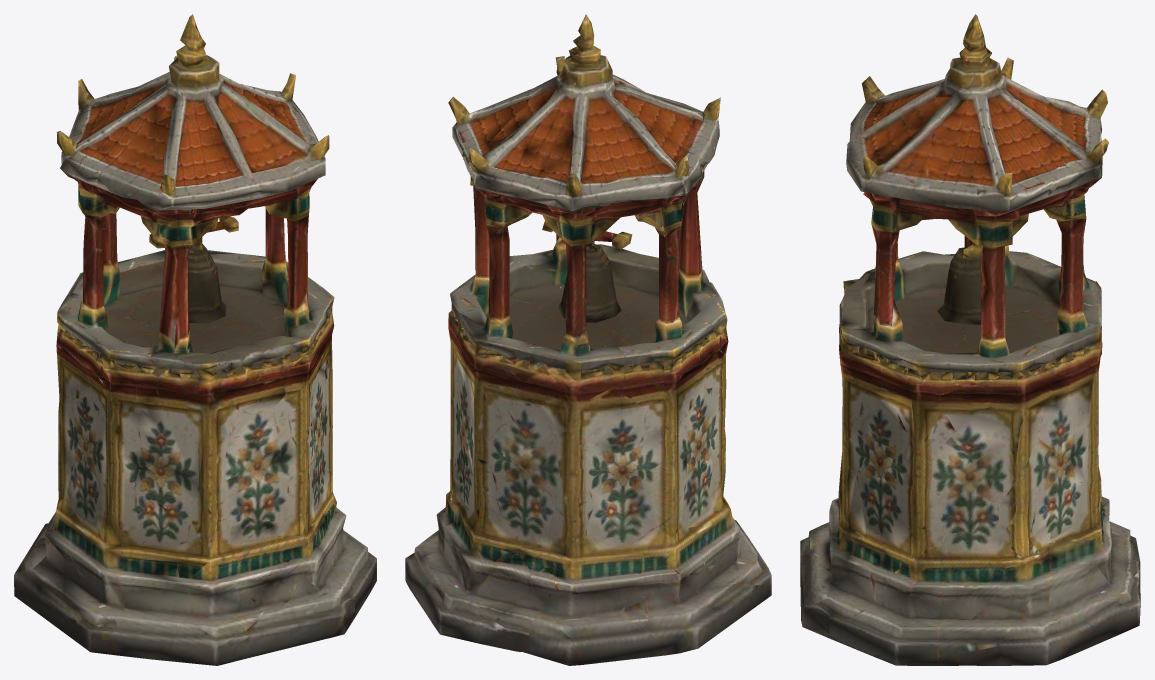
File: bq_sword_pav.far.glb
3 views of the same model, side by side, from view 1: azimuth 30°, elevation 25°; view 2: azimuth 150°, elevation 25°; view 3: azimuth 270°, elevation 25° (orthographic).
Visible parts, largest first — view 1: mesh_node; view 2: mesh_node; view 3: mesh_node.
Part boxes in pixels (x1=…): mesh_node: x1=14, y1=14, x2=376, y2=665; mesh_node: x1=405, y1=14, x2=771, y2=665; mesh_node: x1=800, y1=14, x2=1140, y2=665.
Size of the model in its own units: 1.01 by 1.9 by 1.01.
1 material, 1 textured.
